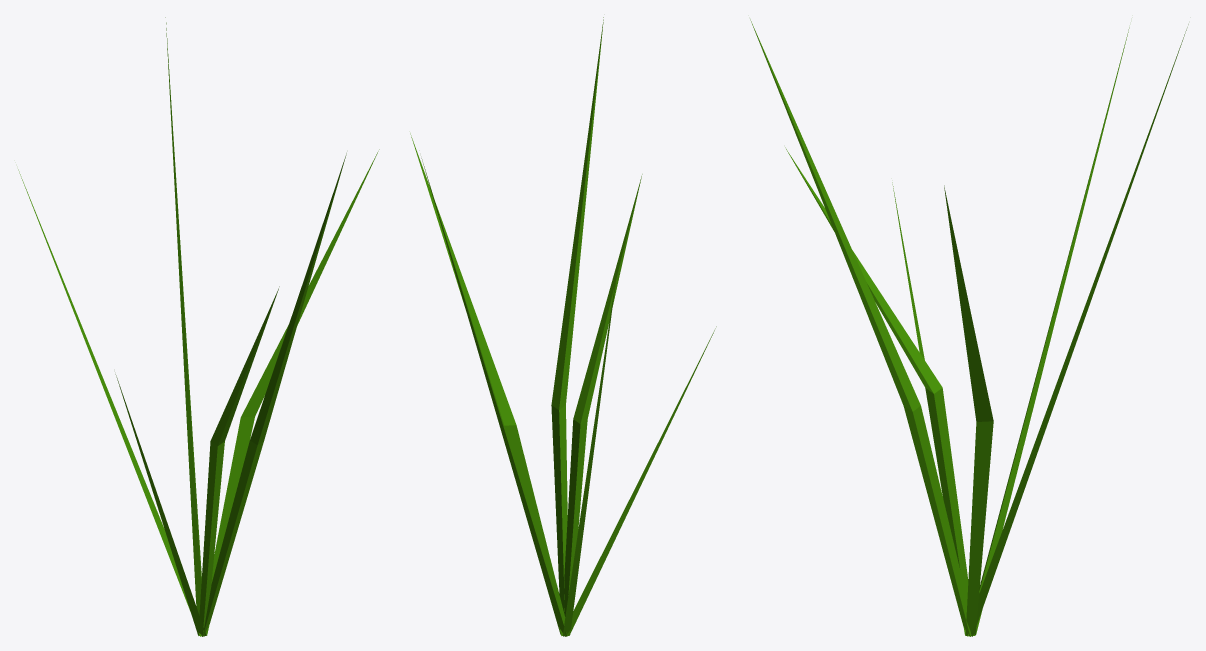
Rendered from Grass_4.fbx.
3 renders of one model, left to right at view 1: azimuth 30°, elevation 25°; view 2: azimuth 150°, elevation 25°; view 3: azimuth 270°, elevation 25°, orthographic. The views are drawn at different scales.
Visible parts, largest first — view 1: Grass 4_LOD0; view 2: Grass 4_LOD0; view 3: Grass 4_LOD0.
Boxes of the visible parts, left/top/right/bottom form: Grass 4_LOD0: left=18, top=17, right=379, bottom=636; Grass 4_LOD0: left=410, top=17, right=716, bottom=636; Grass 4_LOD0: left=750, top=19, right=1188, bottom=636.
Size of what is drawn, in the model's own units: 8.54 by 15.28 by 9.43.
